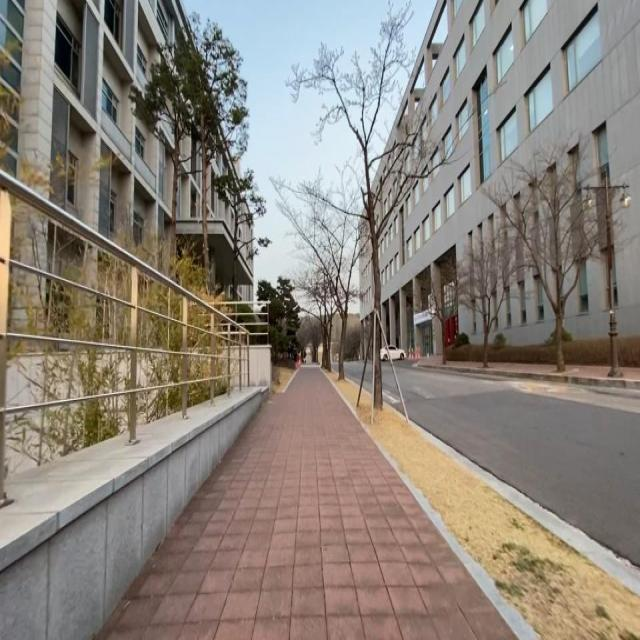sidewalk: (93, 367, 520, 640), (487, 363, 557, 374), (563, 366, 611, 378), (445, 361, 485, 369), (621, 367, 640, 381), (420, 356, 444, 366)
